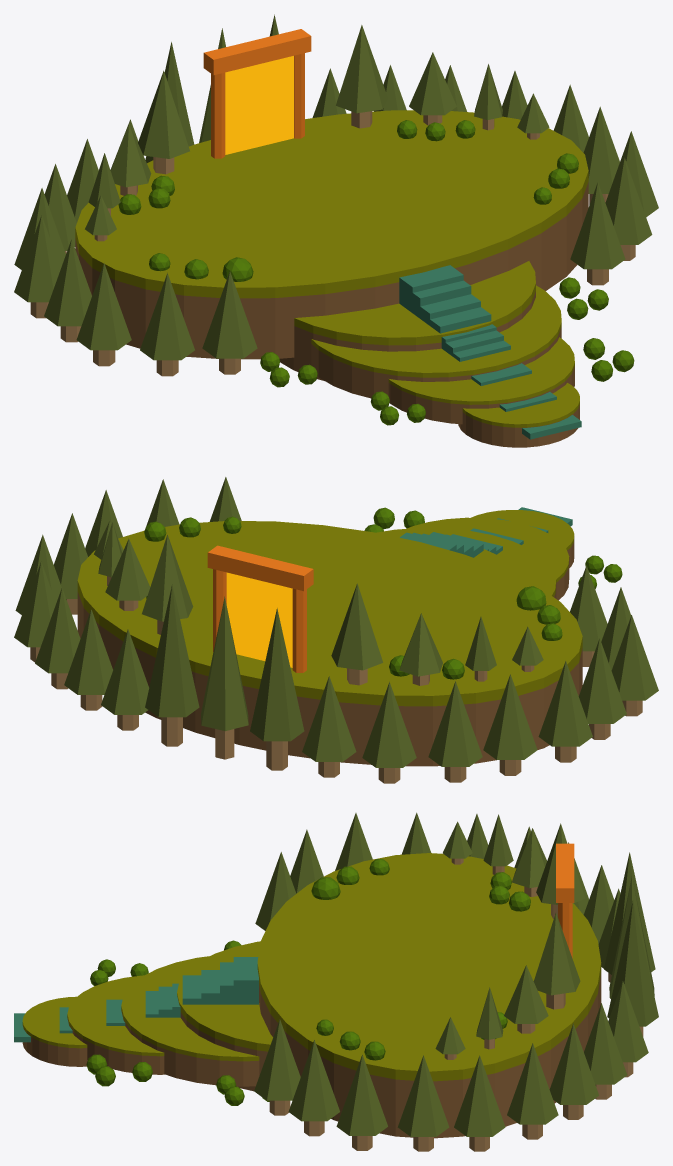
Rendered from environment.glb.
3 views of the same model, one above another, from view 1: azimuth 30°, elevation 25°; view 2: azimuth 150°, elevation 25°; view 3: azimuth 270°, elevation 25° (orthographic). The views are drawn at different scales.
Visible parts, largest first — view 1: terrain, terrain.002, terrain.001, terrain.003, portal, terrain.004, Tree.017, Tree.018, Tree.001, Tree.019, Tree.028, Tree.022 (+29 smaller); view 2: terrain, Tree.021, Tree.020, portal, Tree.010, terrain.003, Tree.012, Tree.013, Tree.014, Tree.015, Tree.011, Tree.028 (+26 smaller); view 3: terrain, terrain.002, terrain.001, terrain.003, terrain.004, Tree.020, Tree.002, Tree.006, Tree.005, Tree.003, Tree.004, Tree.007 (+28 smaller).
Boxes of the visible parts, x1,y1,x2,y2 form: terrain: [75, 110, 588, 359]; terrain.002: [311, 285, 561, 398]; terrain.001: [279, 261, 535, 380]; terrain.003: [388, 337, 574, 424]; portal: [225, 56, 293, 154]; terrain.004: [458, 383, 579, 447]; Tree.017: [76, 263, 131, 366]; Tree.018: [140, 273, 194, 376]; Tree.001: [570, 182, 625, 285]; Tree.019: [202, 271, 257, 374]; Tree.028: [138, 70, 189, 174]; Tree.022: [336, 25, 387, 128]; terrain: [77, 521, 582, 766]; Tree.021: [250, 608, 304, 770]; Tree.020: [145, 584, 199, 746]; portal: [226, 572, 292, 667]; Tree.010: [201, 596, 248, 759]; terrain.003: [406, 517, 569, 600]; Tree.012: [362, 682, 416, 783]; Tree.013: [428, 681, 482, 782]; Tree.014: [483, 674, 537, 775]; Tree.015: [538, 661, 592, 762]; Tree.011: [302, 676, 356, 777]; Tree.028: [331, 583, 382, 685]; terrain: [257, 853, 601, 1138]; terrain.002: [121, 956, 259, 1086]; terrain.001: [177, 941, 272, 1091]; terrain.003: [67, 975, 164, 1074]; terrain.004: [22, 996, 87, 1066]; Tree.020: [607, 900, 658, 1036]; Tree.002: [288, 1040, 339, 1136]; Tree.006: [507, 1043, 558, 1139]; Tree.005: [454, 1055, 505, 1151]; Tree.003: [336, 1054, 387, 1150]; Tree.004: [397, 1055, 449, 1151]; Tree.007: [549, 1023, 598, 1119].
Size of what is drawn, in the model's own units: 49.09 by 15.37 by 51.13.
